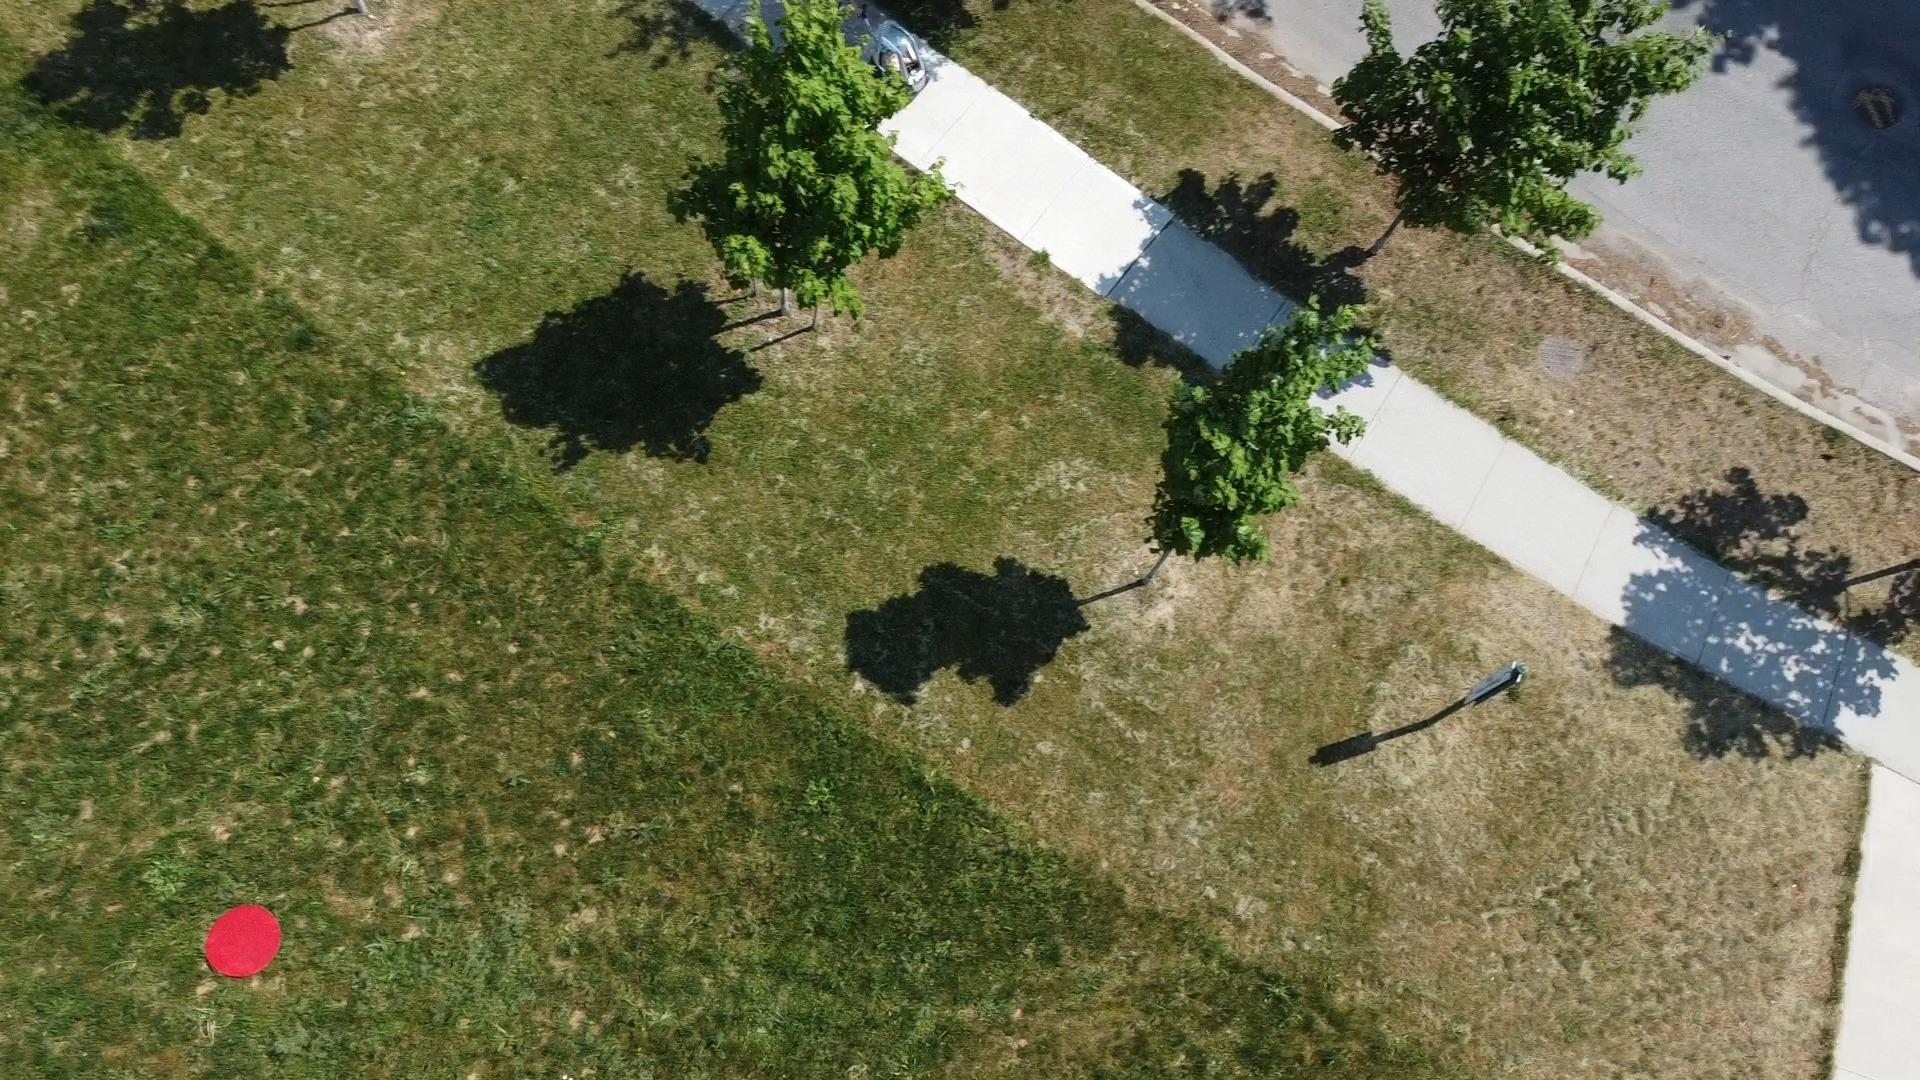Red: (203, 901, 286, 981)
